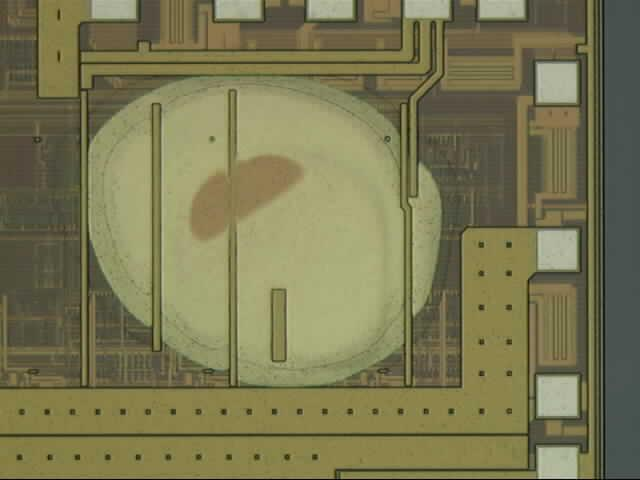BLOCK ETCH: (68, 24, 459, 416)
